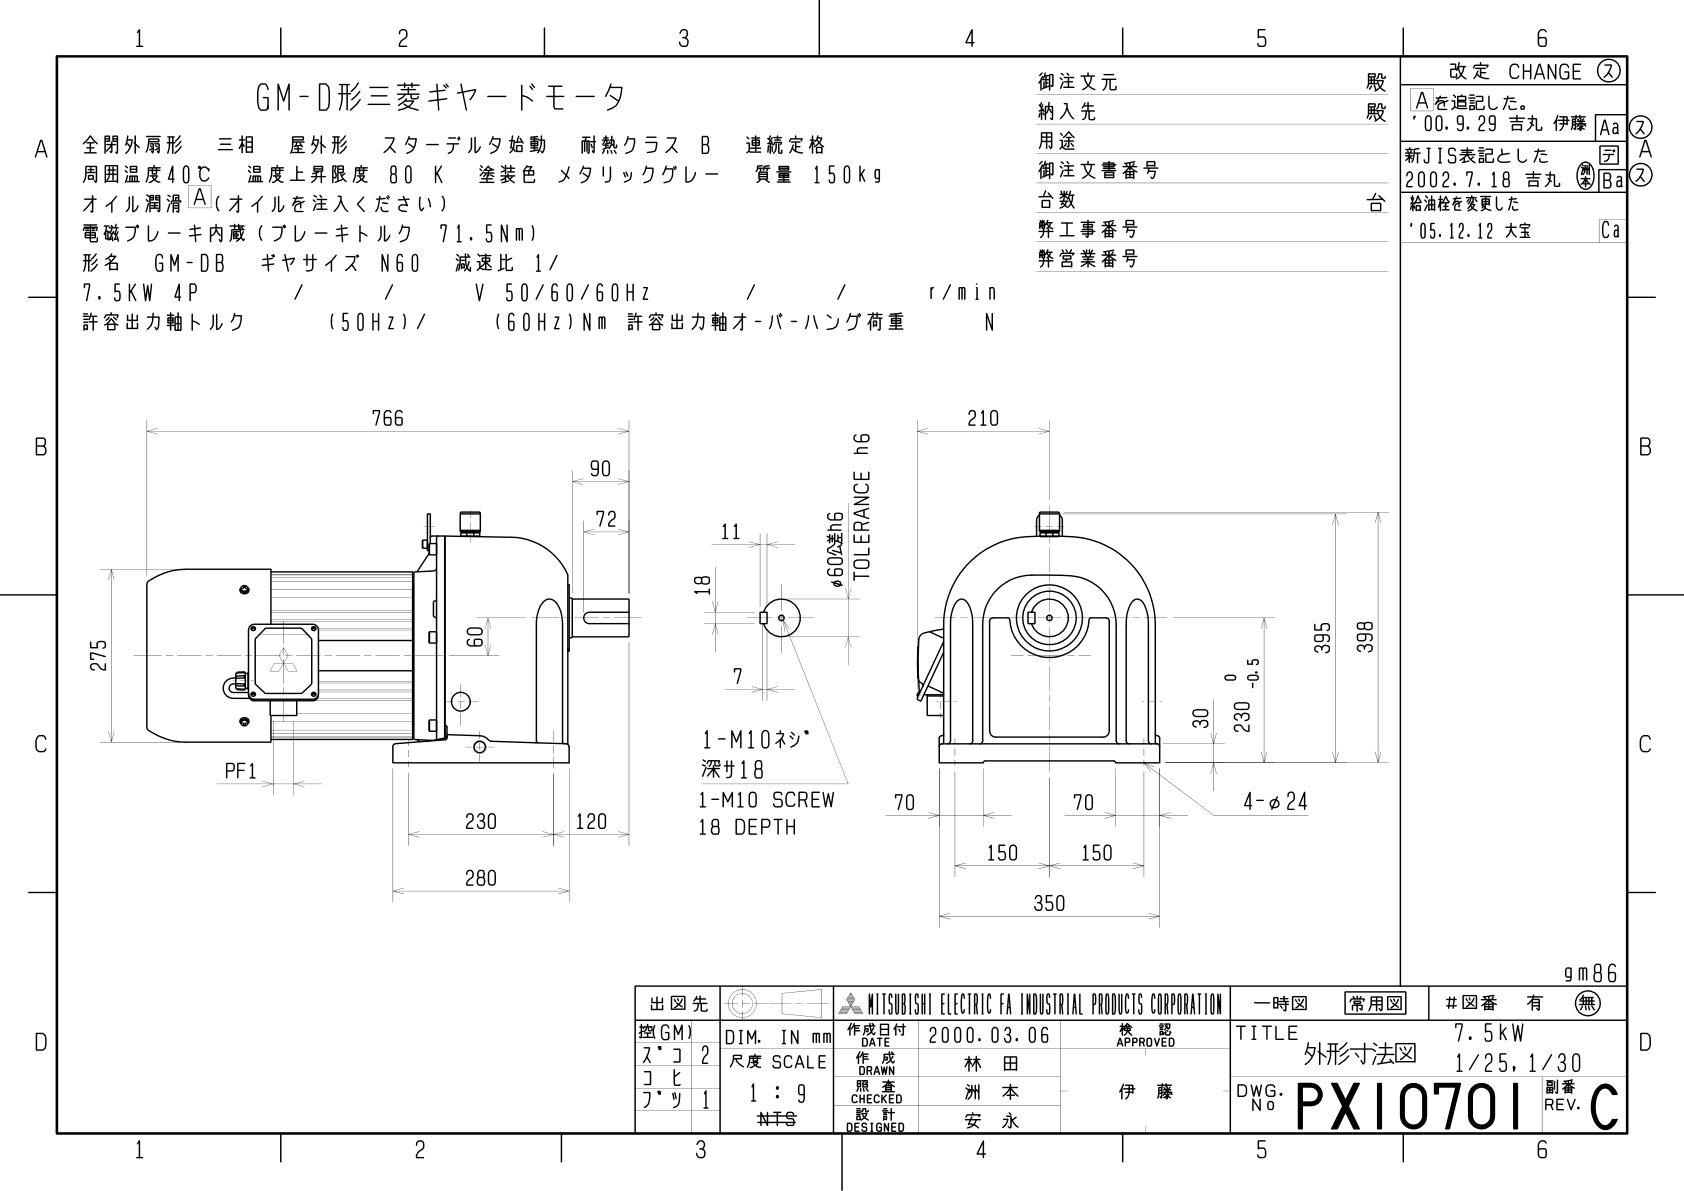GM_D_屋外＿三相_脚: (64, 367, 1393, 941)
